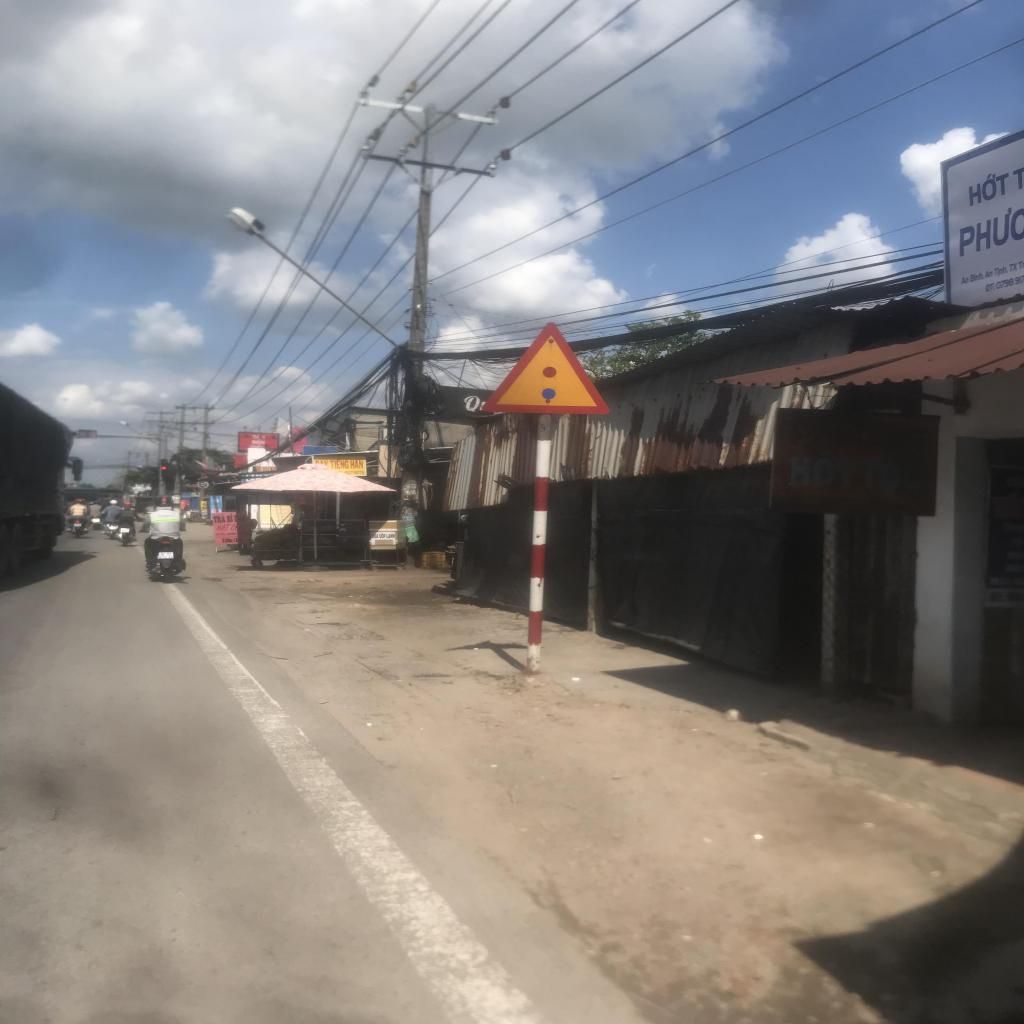giao_nhau_co_tin_hieu_den: (479, 320, 612, 412)
